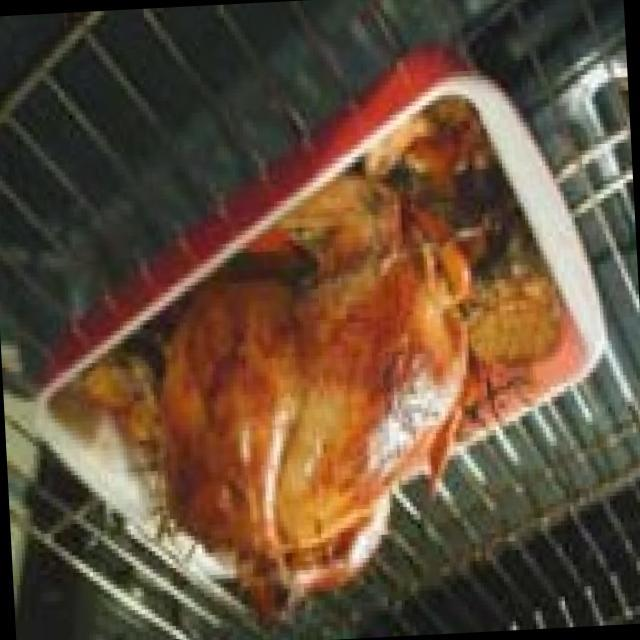Chicken: (124, 212, 496, 594)
